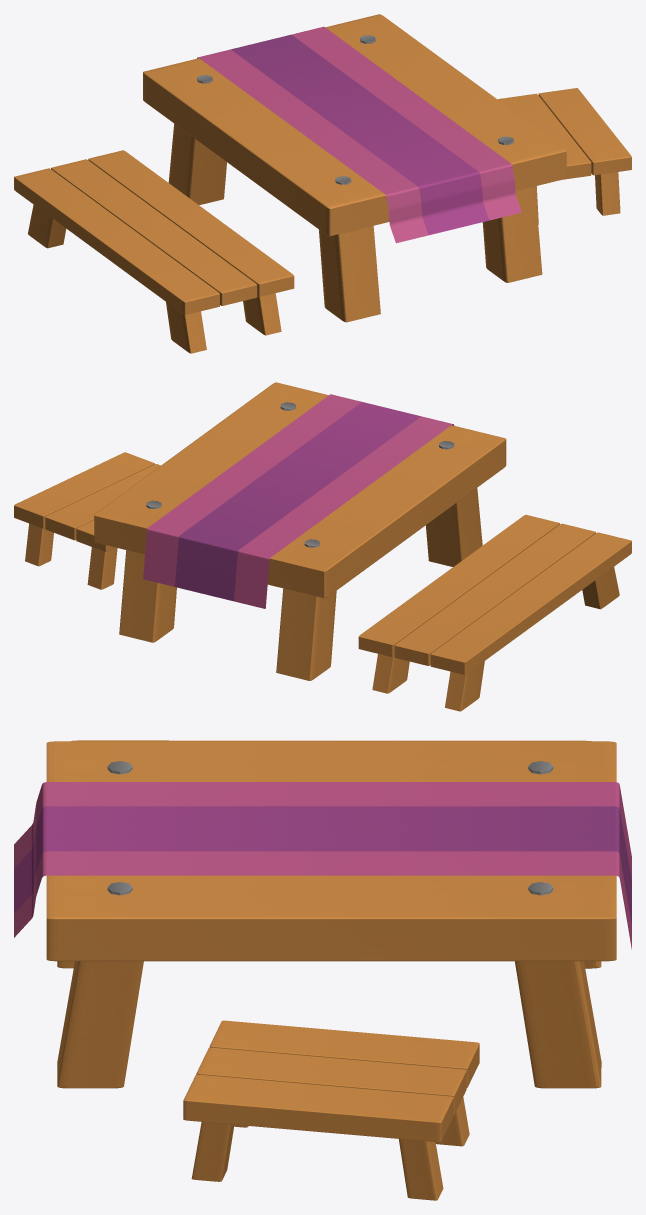
The model's file is Mesa2.fbx.
The picture shows the model from 3 angles, top to bottom: view 1: azimuth 30°, elevation 25°; view 2: azimuth 150°, elevation 25°; view 3: azimuth 270°, elevation 25°; orthographic projection. The views are drawn at different scales.
Visible parts, largest first — view 1: Cube, Plane, Cube.002, Cube.001; view 2: Cube, Plane, Cube.002, Cube.001; view 3: Cube, Plane, Cube.001, Cube.002.
Part boxes in pixels (x1,y1,x2,y2): Cube: (143,14,566,322); Plane: (197,26,521,243); Cube.002: (14,150,294,353); Cube.001: (498,88,631,224); Cube: (94,382,506,680); Plane: (143,394,454,608); Cube.002: (358,514,631,711); Cube.001: (14,452,160,589); Cube: (46,741,616,1088); Plane: (14,782,631,949); Cube.001: (183,1020,479,1200); Cube.002: (71,740,591,741).
Size of the model in its own units: 249 by 57.71 by 170.
5 materials, 5 textured.
